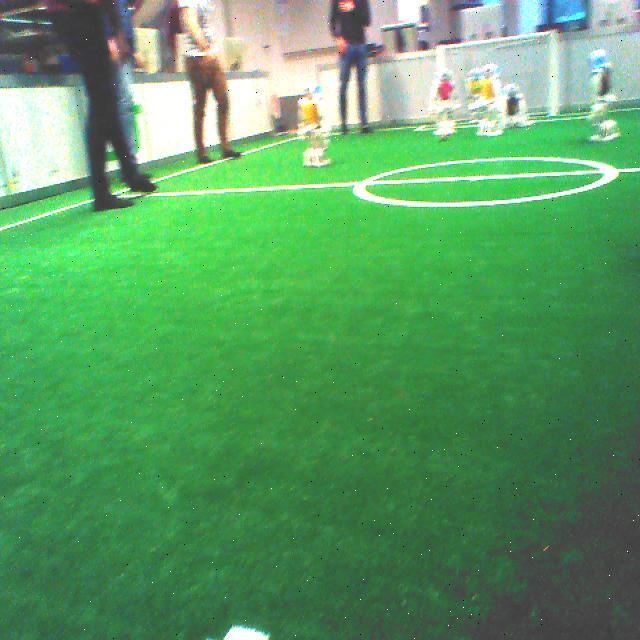goalpost: (547, 29, 561, 116), (438, 44, 450, 73)
